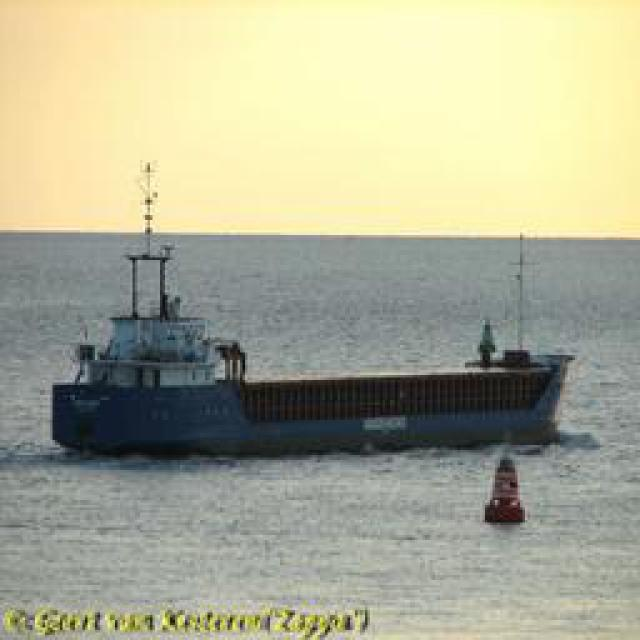Ship: (45, 251, 585, 459)
